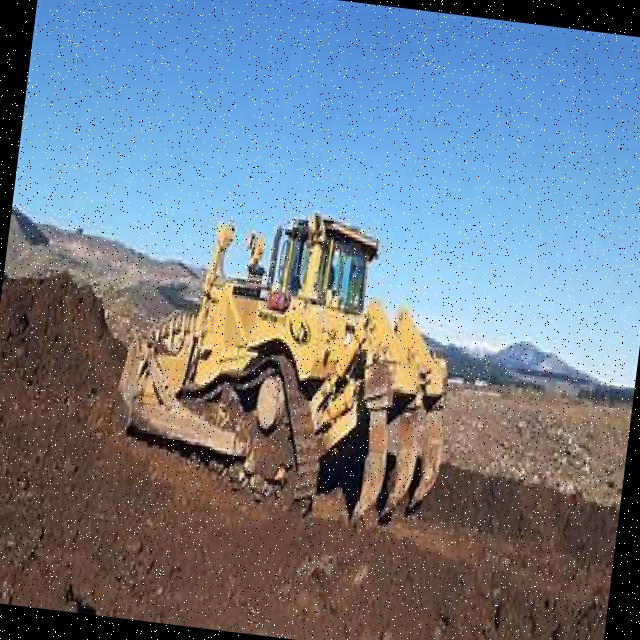Bulldozer: (90, 166, 482, 554)
